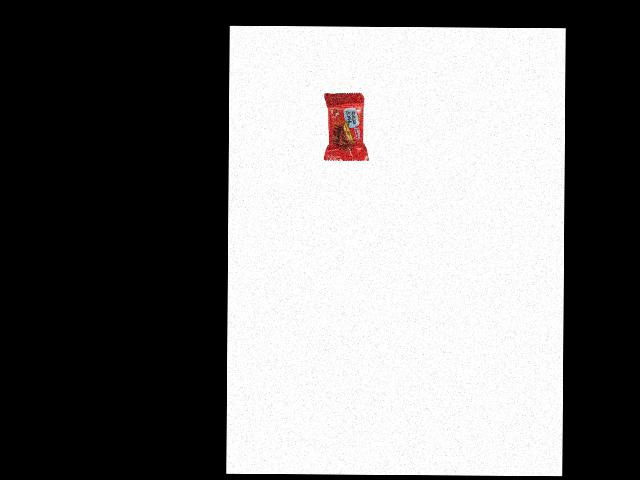chocolate: (324, 86, 373, 161)
